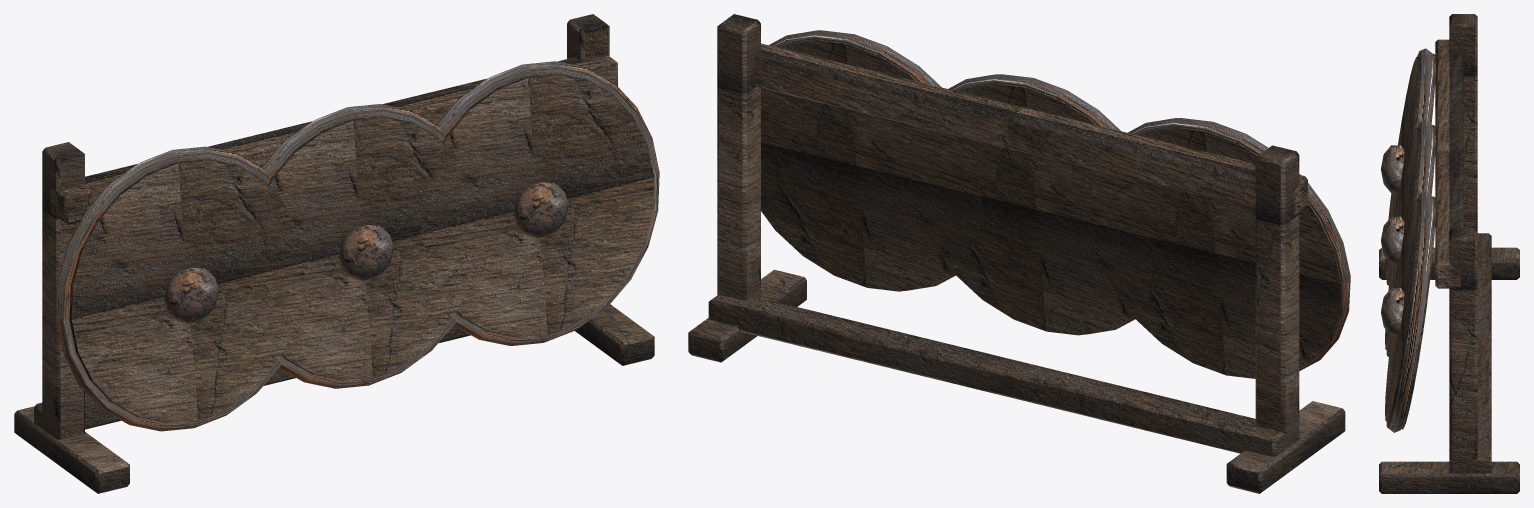
File: shield-stand-v02.glb
The picture shows the model from 3 angles, left to right: view 1: azimuth 30°, elevation 25°; view 2: azimuth 150°, elevation 25°; view 3: azimuth 270°, elevation 25°; orthographic projection. The views are drawn at different scales.
Visible parts, largest first — view 1: shield-stand; view 2: shield-stand; view 3: shield-stand.
Boxes of the visible parts, <box> form: shield-stand: <box>14,14,659,493</box>; shield-stand: <box>688,14,1350,493</box>; shield-stand: <box>1379,14,1519,493</box>.
Bounding box in the file's own units: 2.07 × 1 × 0.5.
Materials: 2 (2 with a texture image).
